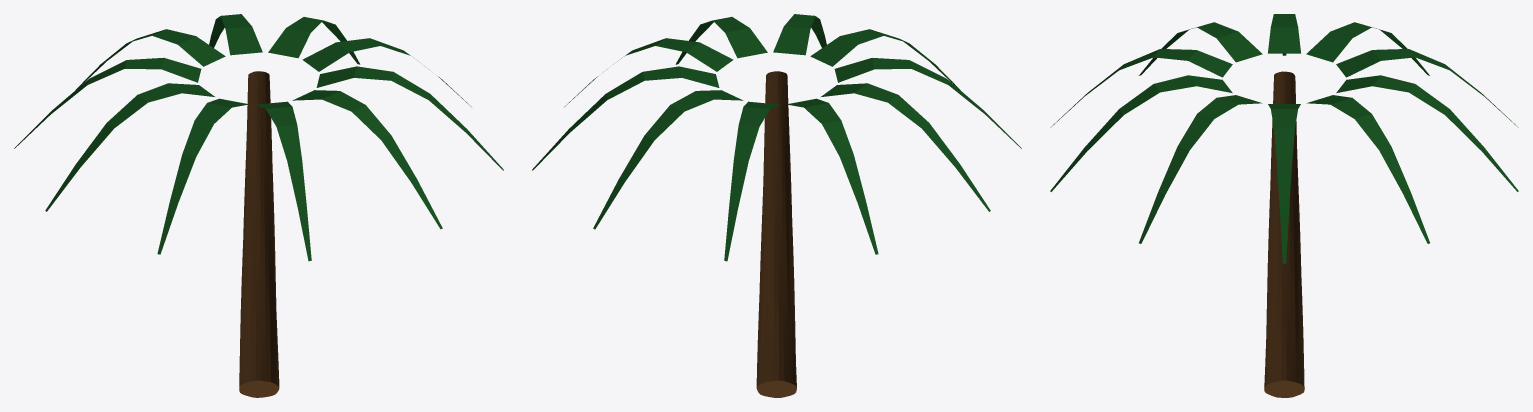
Rendered from palm.obj.
3 views of the same model, side by side, from view 1: azimuth 30°, elevation 25°; view 2: azimuth 150°, elevation 25°; view 3: azimuth 270°, elevation 25° (orthographic).
Visible parts, largest first — view 1: coastal_palm; view 2: coastal_palm; view 3: coastal_palm.
Part boxes in pixels (x1,y1,x2,y2): coastal_palm: (14, 14, 503, 397); coastal_palm: (532, 14, 1021, 397); coastal_palm: (1050, 14, 1518, 397).
Bounding box in the file's own units: 8.25 × 5.95 × 7.86.
